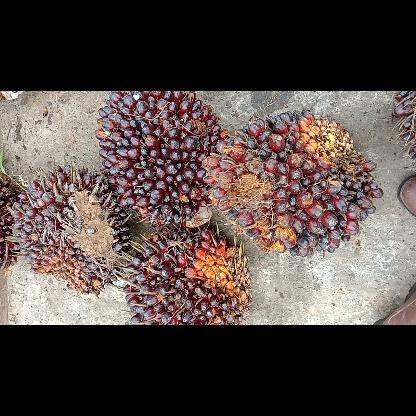Kurang masak: (204, 108, 386, 258), (93, 90, 227, 226), (6, 162, 132, 297), (118, 222, 254, 324)
